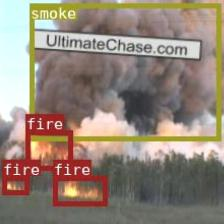fire: (25, 130, 72, 170), (52, 175, 106, 205), (2, 176, 28, 194)
smoke: (28, 4, 220, 140)
